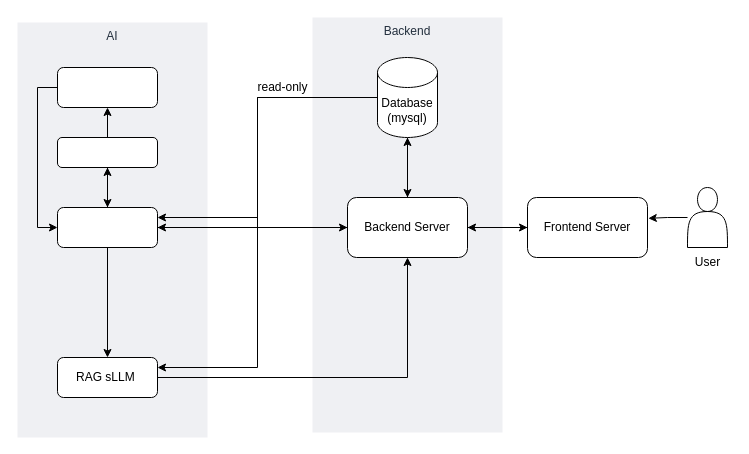
This 749x454 diagram has some shape labels left out. The shapes that lost their labels are listed below. From the top down, each one's centre as x and y in pixels, then its label:
(107,87): Deep Learning Predict
(107,152): Automation EDA
(107,227): AI Model server
